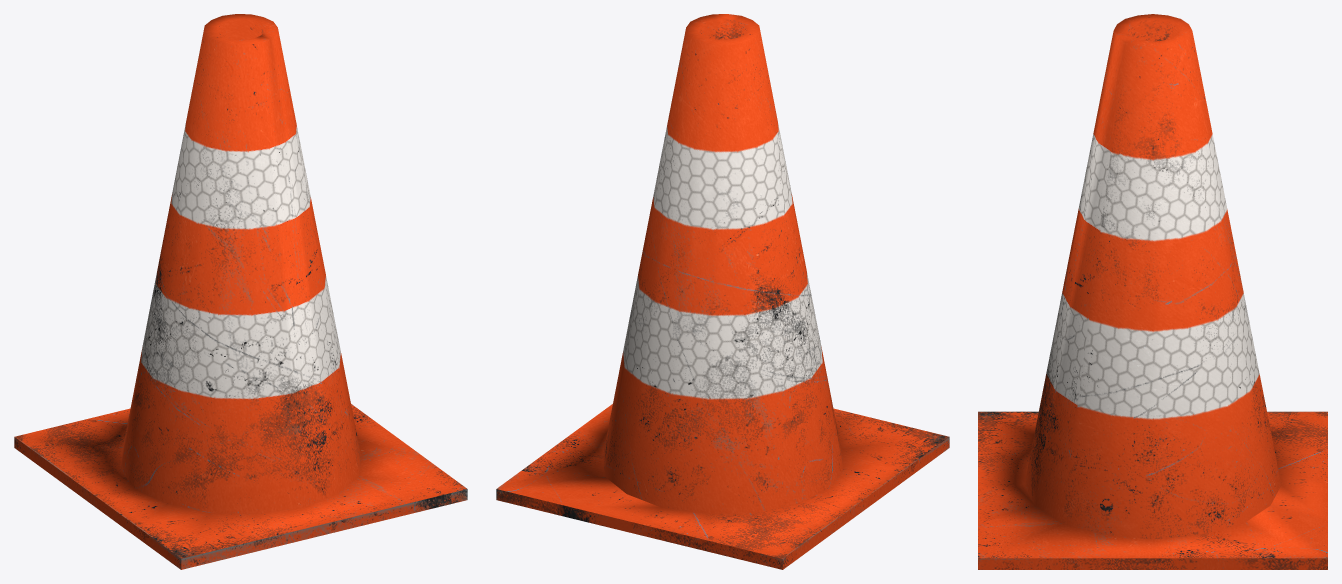
Rendered from Obatacle_04.fbx.
The picture shows the model from 3 angles, left to right: view 1: azimuth 30°, elevation 25°; view 2: azimuth 150°, elevation 25°; view 3: azimuth 270°, elevation 25°; orthographic projection. The views are drawn at different scales.
Parts seen in each view (by area): view 1: Obstacle_04; view 2: Obstacle_04; view 3: Obstacle_04.
Part boxes in pixels (left/top/right/bottom): Obstacle_04: left=14, top=14, right=467, bottom=569; Obstacle_04: left=496, top=14, right=949, bottom=569; Obstacle_04: left=978, top=14, right=1327, bottom=569.
Bounding box in the file's own units: 0.0298 × 0.0441 × 0.03.
Materials: 1 (1 with a texture image).
